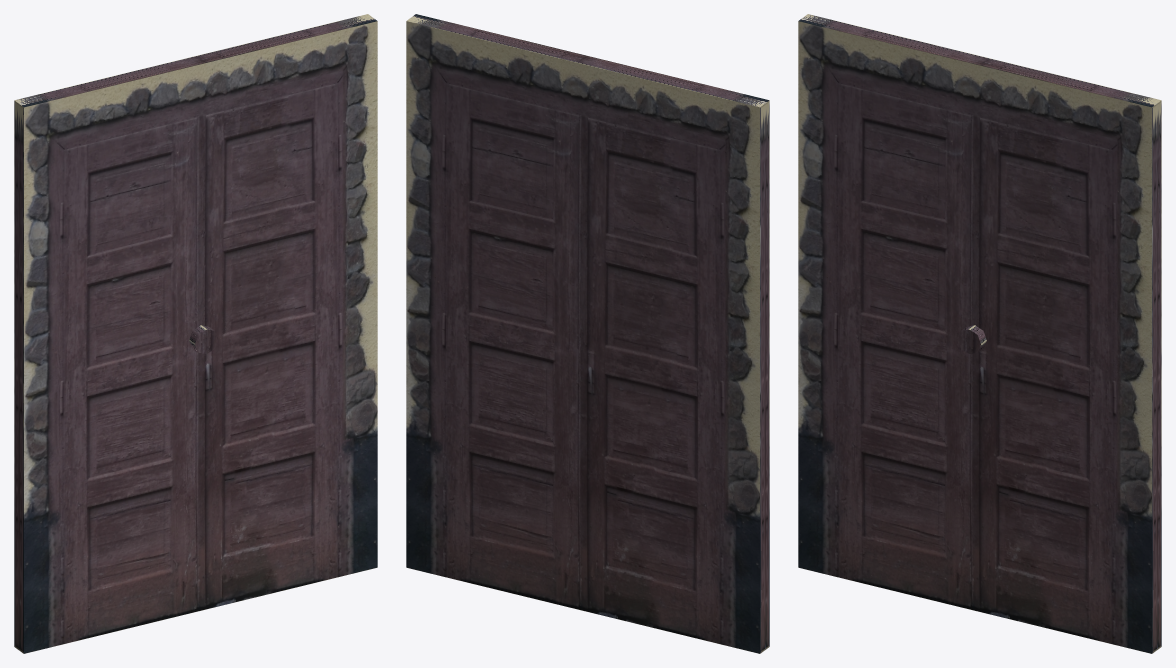
Rendered from DoorD.FBX.
3 views of the same model, side by side, from view 1: azimuth 30°, elevation 25°; view 2: azimuth 150°, elevation 25°; view 3: azimuth 330°, elevation 25° (orthographic).
Parts seen in each view (by area): view 1: Door; view 2: Door; view 3: Door.
Part boxes in pixels (x1,y1,x2,y2): Door: [14, 14, 377, 653]; Door: [406, 14, 769, 653]; Door: [798, 14, 1161, 653].
Size of the model in its own units: 41.34 by 61.02 by 3.15.
